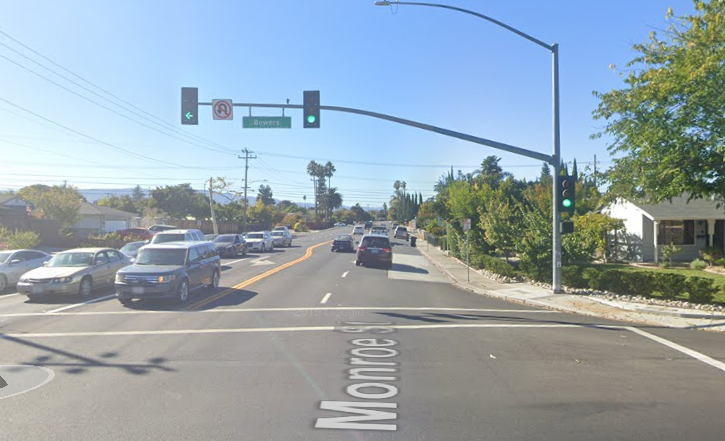green_light: (303, 89, 320, 129), (557, 177, 576, 210)
